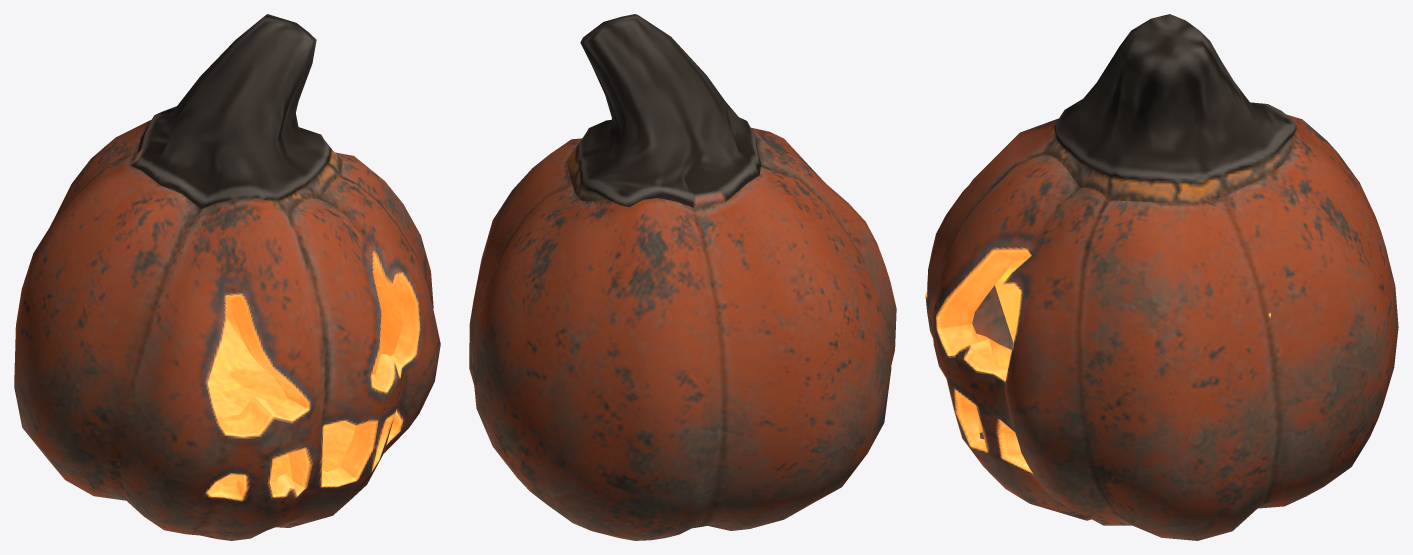
The model's file is Pumpkin.fbx.
3 renders of one model, left to right at view 1: azimuth 30°, elevation 25°; view 2: azimuth 150°, elevation 25°; view 3: azimuth 270°, elevation 25°, orthographic. The views are drawn at different scales.
Visible parts, largest first — view 1: Pumpkin_03_REF.mo; view 2: Pumpkin_03_REF.mo; view 3: Pumpkin_03_REF.mo.
Part boxes in pixels (x1=…): Pumpkin_03_REF.mo: x1=14, y1=14, x2=440, y2=540; Pumpkin_03_REF.mo: x1=469, y1=14, x2=896, y2=540; Pumpkin_03_REF.mo: x1=925, y1=14, x2=1398, y2=540.
Size of the model in its own units: 385 by 448 by 376.
